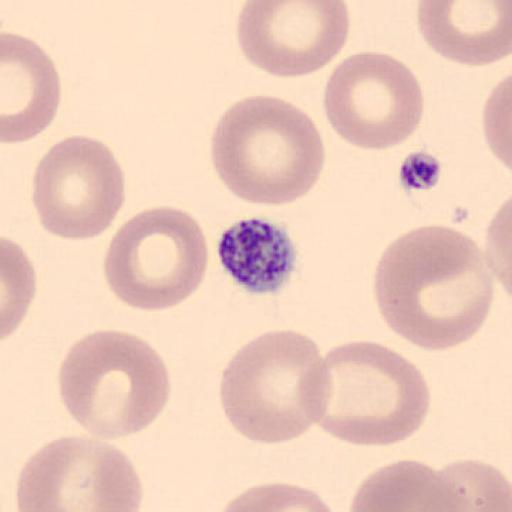Platelet: (216, 214, 300, 296), (395, 147, 446, 193)
RBC: (371, 223, 495, 352), (209, 92, 326, 208), (218, 328, 332, 445), (58, 328, 172, 441), (315, 339, 432, 447), (102, 205, 210, 313), (322, 50, 426, 152), (30, 132, 126, 242), (13, 433, 145, 512), (235, 0, 351, 79), (2, 30, 62, 146), (347, 457, 472, 512), (416, 0, 512, 67), (434, 457, 512, 512), (213, 481, 339, 512), (1, 234, 37, 341), (480, 70, 512, 176), (483, 192, 512, 301)
